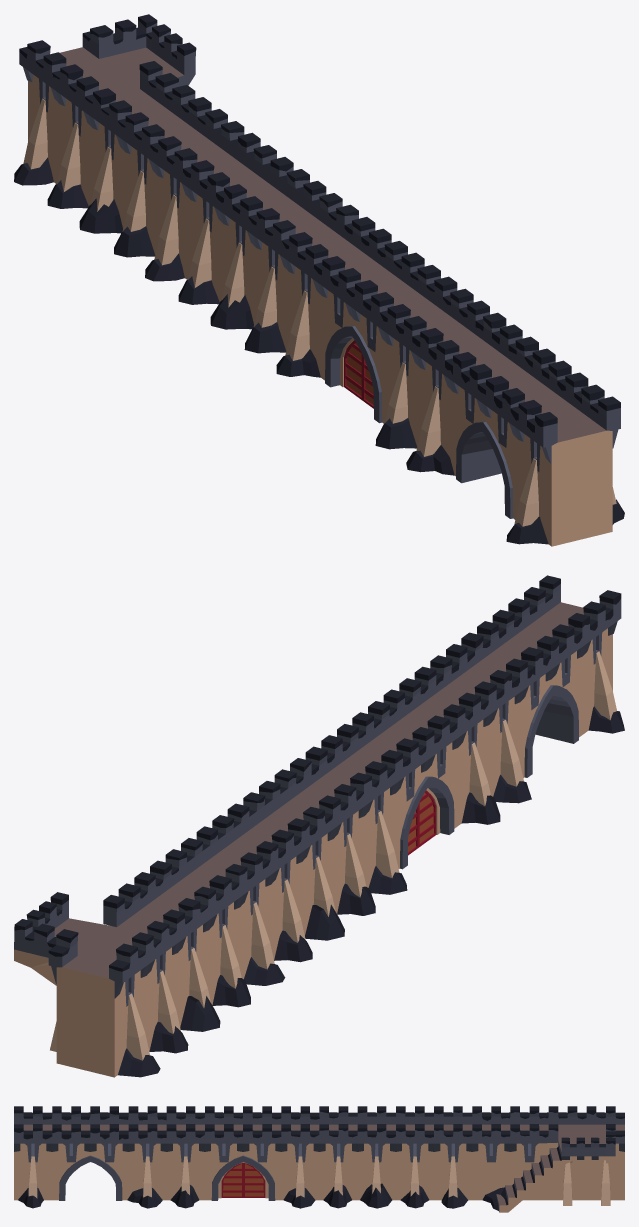
Rendered from Pack_Walls.fbx.
3 views of the same model, one above another, from view 1: azimuth 30°, elevation 25°; view 2: azimuth 150°, elevation 25°; view 3: azimuth 270°, elevation 25° (orthographic). The views are drawn at different scales.
Parts seen in each view (by area): view 1: Wall1, Wall4, Wall2, Wall3, Wall1.003, Wall1.002, Wall1.001; view 2: Wall4, Wall1, Wall2, Wall3, Wall1.003, Wall1.002, Wall1.001; view 3: Wall4, Wall2, Wall3, Wall1, Wall1.002, Wall1.001, Wall1.003.
Part boxes in pixels (<box>): Wall1: <box>406,312,624,546</box>; Wall4: <box>19,14,227,254</box>; Wall2: <box>281,217,489,446</box>; Wall3: <box>150,121,358,350</box>; Wall1.003: <box>14,157,155,257</box>; Wall1.002: <box>145,253,286,353</box>; Wall1.001: <box>276,349,417,449</box>; Wall4: <box>14,849,247,1077</box>; Wall1: <box>430,575,624,803</box>; Wall2: <box>305,666,496,887</box>; Wall3: <box>181,758,371,979</box>; Wall1.003: <box>118,975,250,1077</box>; Wall1.002: <box>244,883,375,985</box>; Wall1.001: <box>368,792,500,894</box>; Wall4: <box>472,1106,624,1212</box>; Wall2: <box>166,1106,319,1200</box>; Wall3: <box>319,1106,472,1200</box>; Wall1: <box>14,1106,166,1208</box>; Wall1.002: <box>323,1183,468,1208</box>; Wall1.001: <box>170,1185,315,1208</box>; Wall1.003: <box>482,1187,506,1210</box>.
Size of what is drawn, in the model's own units: 508 by 429 by 3200.
